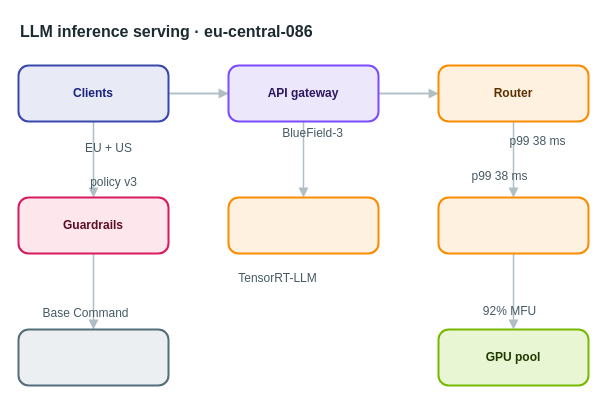
The diagram is 606 pixels wide and 403 high, and some of its shapes have lost their labels. Each missing label, with the centre of its shape:
Metrics: (x=93, y=357)
NIM replica 1: (x=303, y=225)
NIM replica 2: (x=513, y=225)
